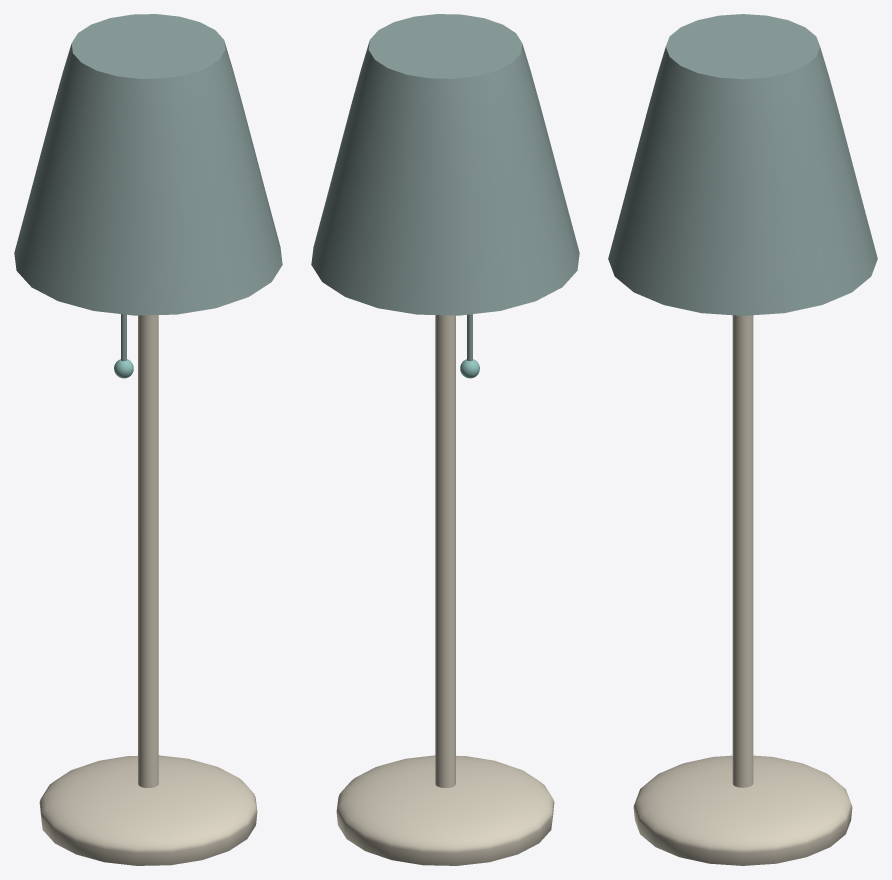
Rendered from lamp_model.fbx.
3 renders of one model, left to right at view 1: azimuth 30°, elevation 25°; view 2: azimuth 150°, elevation 25°; view 3: azimuth 270°, elevation 25°, orthographic.
Parts seen in each view (by area): view 1: pSphere4; view 2: pSphere4; view 3: pSphere4.
Boxes of the visible parts, x1,y1,x2,y2 form: pSphere4: (14,14,282,865); pSphere4: (311,14,579,865); pSphere4: (608,14,877,865).
Bounding box in the file's own units: 24.64 × 77.98 × 24.64.
